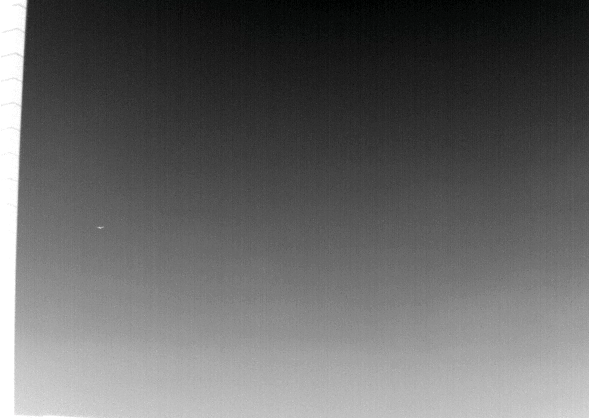dim target: (97, 225, 104, 230)
